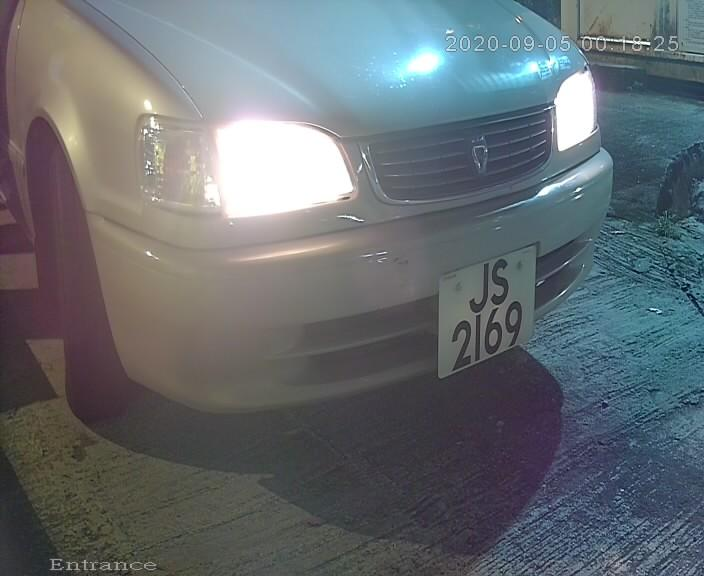License Plate: (421, 233, 546, 389)
